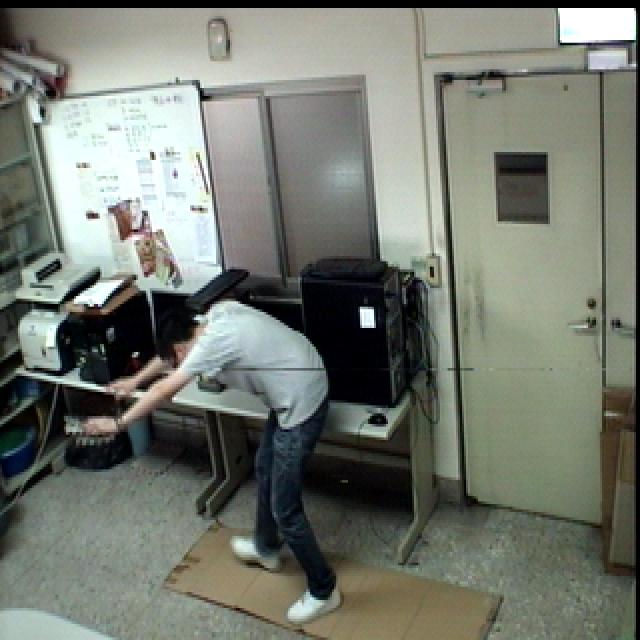bend: (81, 298, 348, 624)
